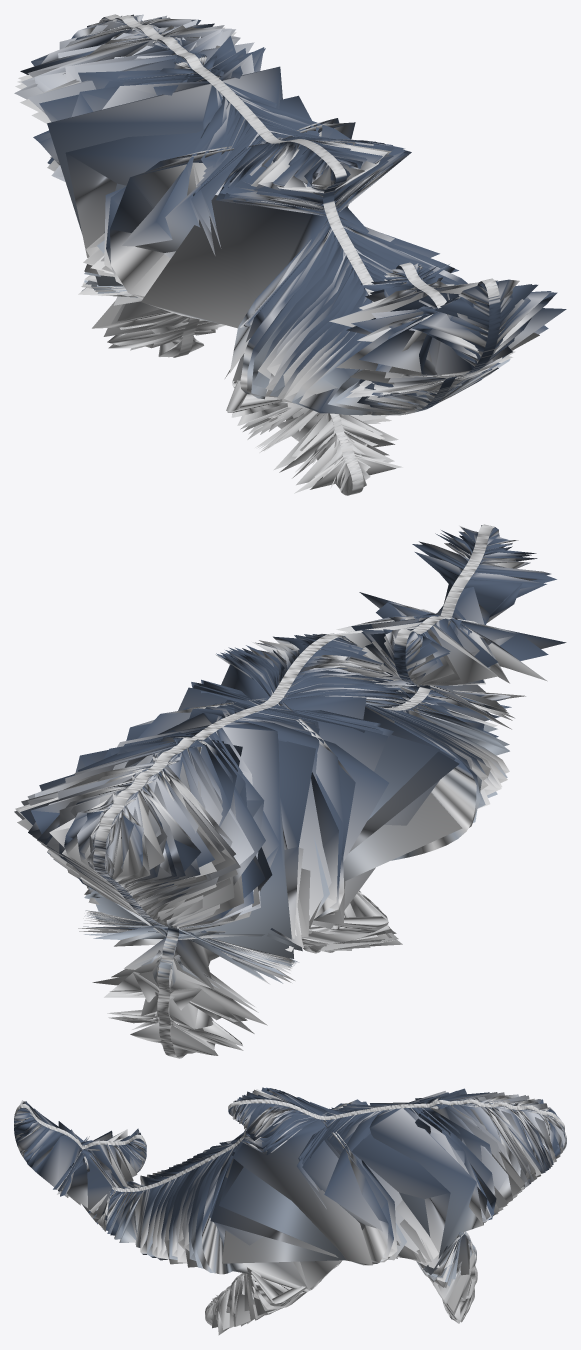
File: whale.glb
3 renders of one model, top to bottom at view 1: azimuth 30°, elevation 25°; view 2: azimuth 150°, elevation 25°; view 3: azimuth 270°, elevation 25°, orthographic. The views are drawn at different scales.
Visible parts, largest first — view 1: whale; view 2: whale; view 3: whale.
Boxes of the visible parts, x1=… form: whale: x1=14, y1=14, x2=566, y2=495; whale: x1=14, y1=524, x2=566, y2=1058; whale: x1=14, y1=1087, x2=566, y2=1335.
Size of the model in its own units: 0.34 by 0.4467 by 1.
